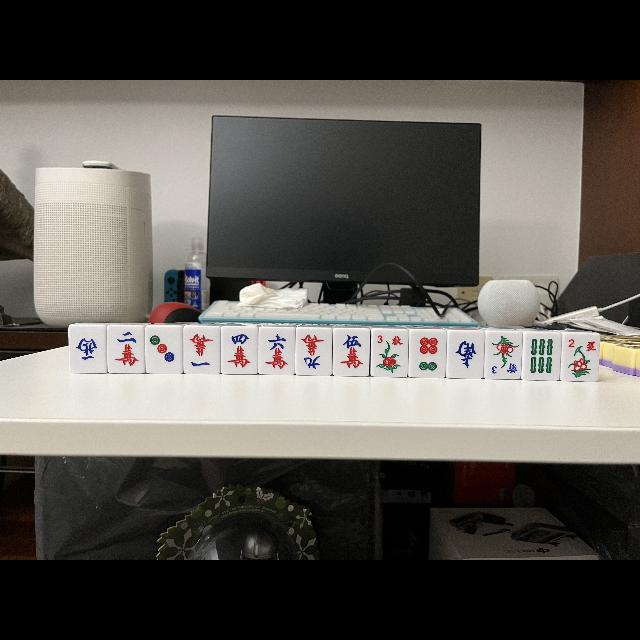b6: (522, 332, 560, 381)
c1: (184, 326, 220, 374)
c2: (108, 325, 144, 373)
c4: (222, 326, 258, 374)
c5: (332, 328, 370, 376)
c6: (259, 327, 295, 375)
c9: (296, 328, 332, 376)
d3: (145, 326, 183, 374)
d6: (410, 329, 446, 377)
f3: (484, 358, 522, 379)
s2: (562, 332, 600, 353)
s3: (371, 328, 409, 348)
ws: (446, 330, 484, 378)
ww: (69, 326, 107, 374)
